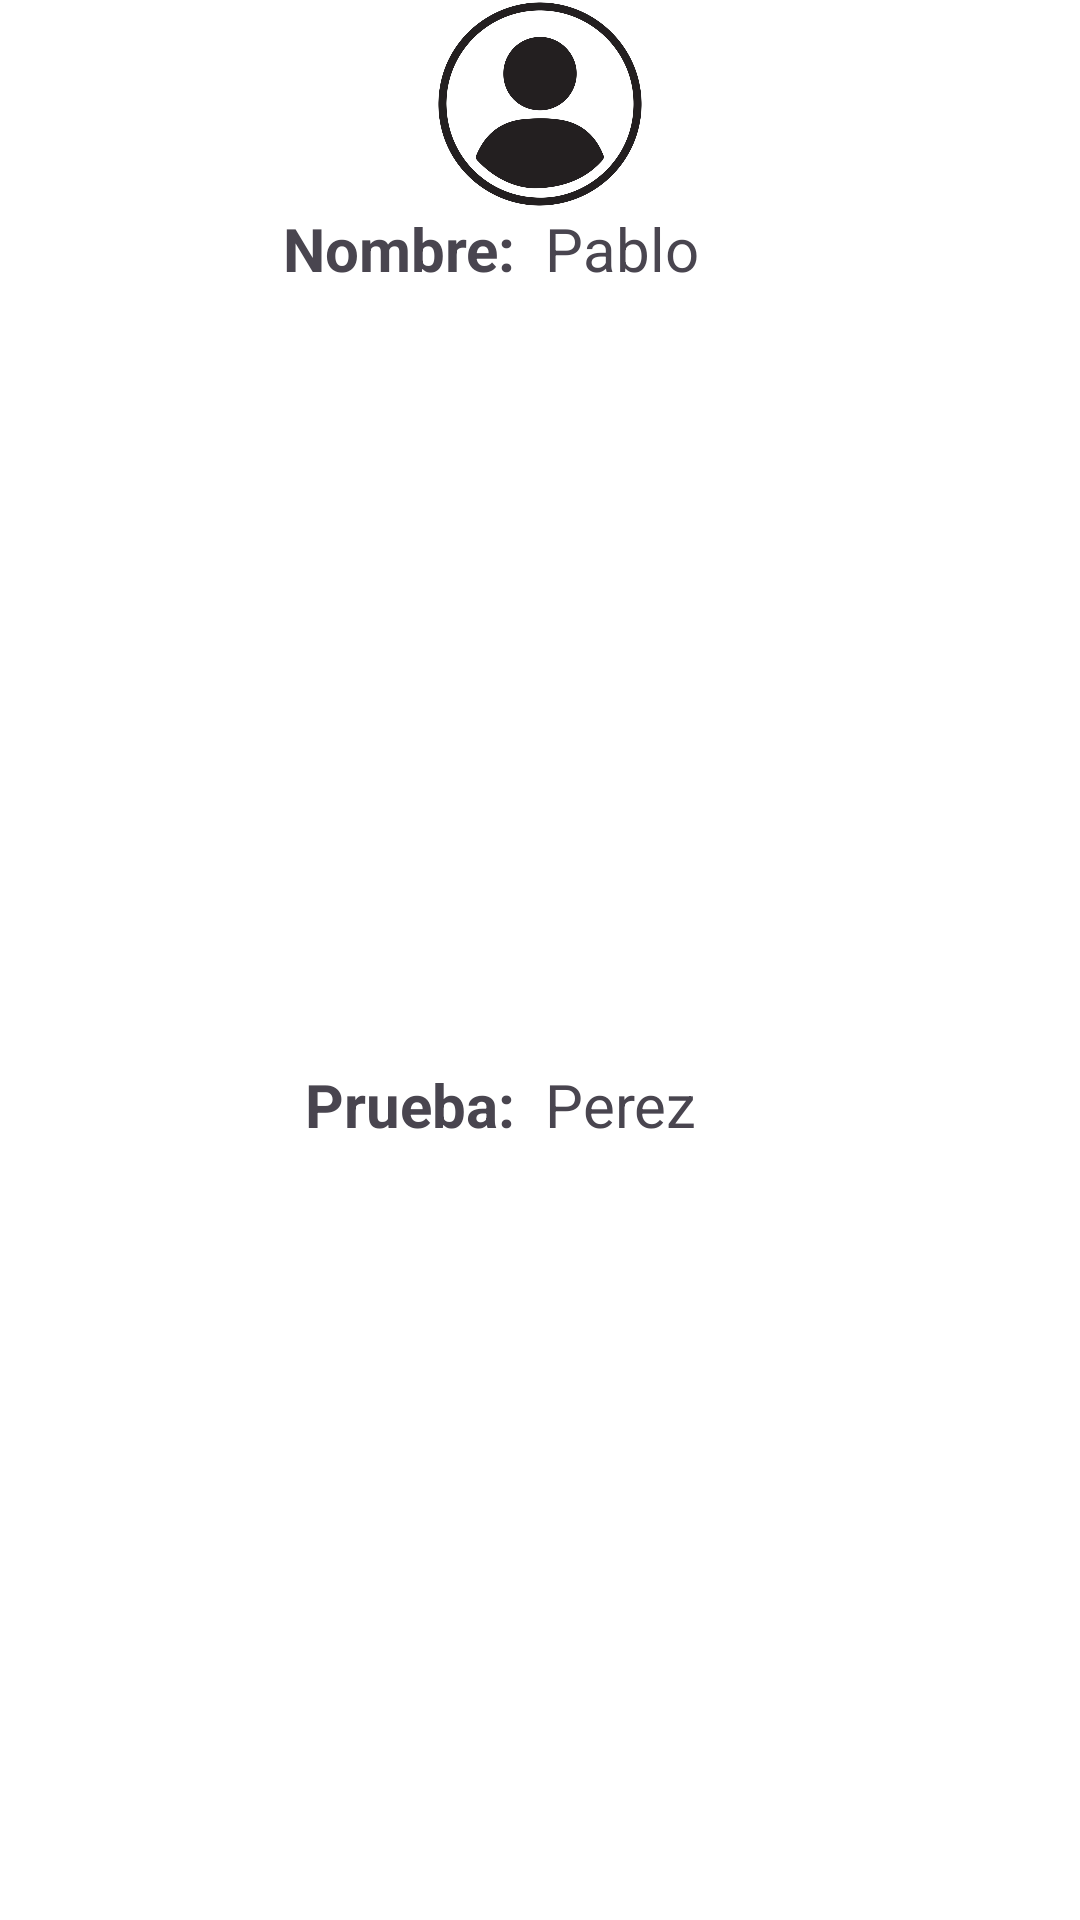

Named icons in this screenshot (1080 x 1920) and their bounding boxes, (x1=x1, y1=y1, x2=x2, y2=y2):
usuario: (x1=438, y1=2, x2=642, y2=206)
